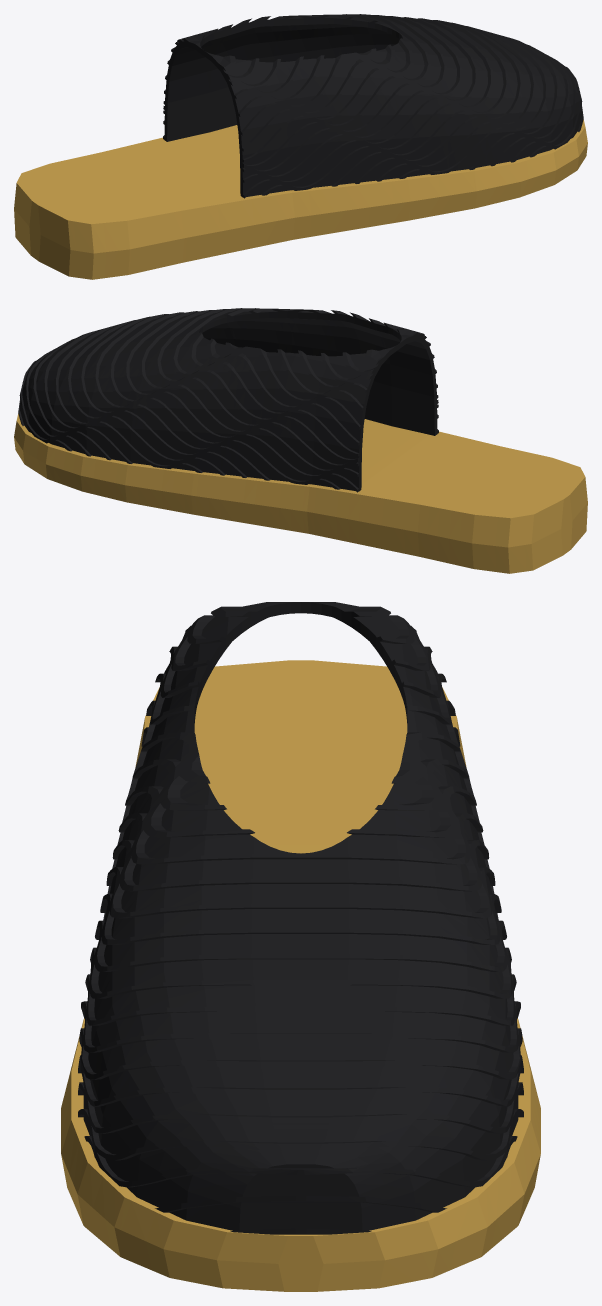
Rendered from ripple-mule.glb.
3 renders of one model, top to bottom at view 1: azimuth 30°, elevation 25°; view 2: azimuth 150°, elevation 25°; view 3: azimuth 270°, elevation 25°, orthographic. The views are drawn at different scales.
Visible parts, largest first — view 1: ripple-mule_upper, ripple-mule_sole; view 2: ripple-mule_upper, ripple-mule_sole; view 3: ripple-mule_upper, ripple-mule_sole.
Boxes of the visible parts, box(x1,y1,x2,y2) form: ripple-mule_upper: box(163, 14, 583, 198); ripple-mule_sole: box(14, 120, 587, 279); ripple-mule_upper: box(18, 308, 438, 492); ripple-mule_sole: box(14, 414, 587, 573); ripple-mule_upper: box(78, 602, 523, 1234); ripple-mule_sole: box(61, 660, 540, 1291).
Bounding box in the file's own units: 0.3 × 0.0907 × 0.117.
